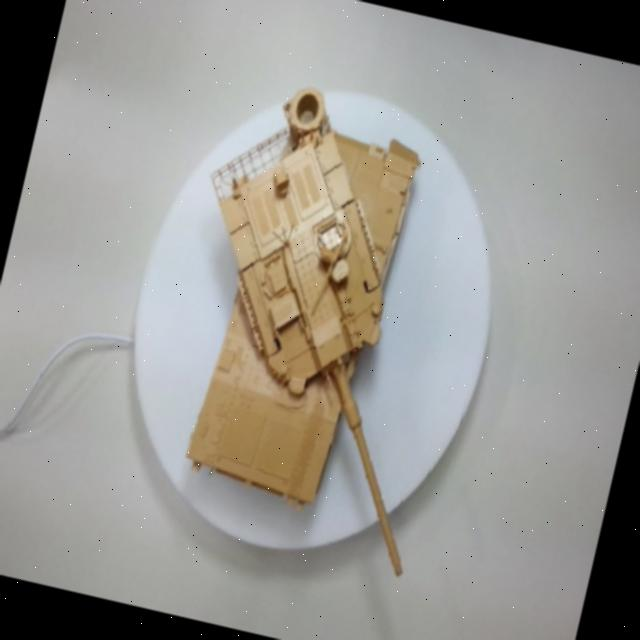korea tank: (82, 40, 538, 639)
